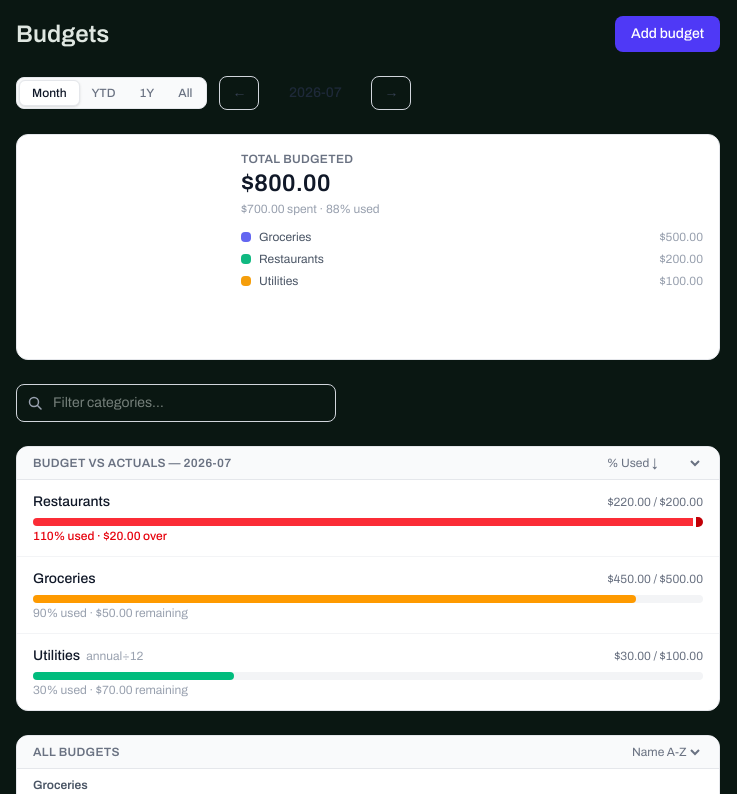
filter bar › Clear button resets filter and restores all rows
Type "groc" into the field with placeholder "Filter categories…". click: {"x": 176, "y": 403}
box: [16,384,336,422]
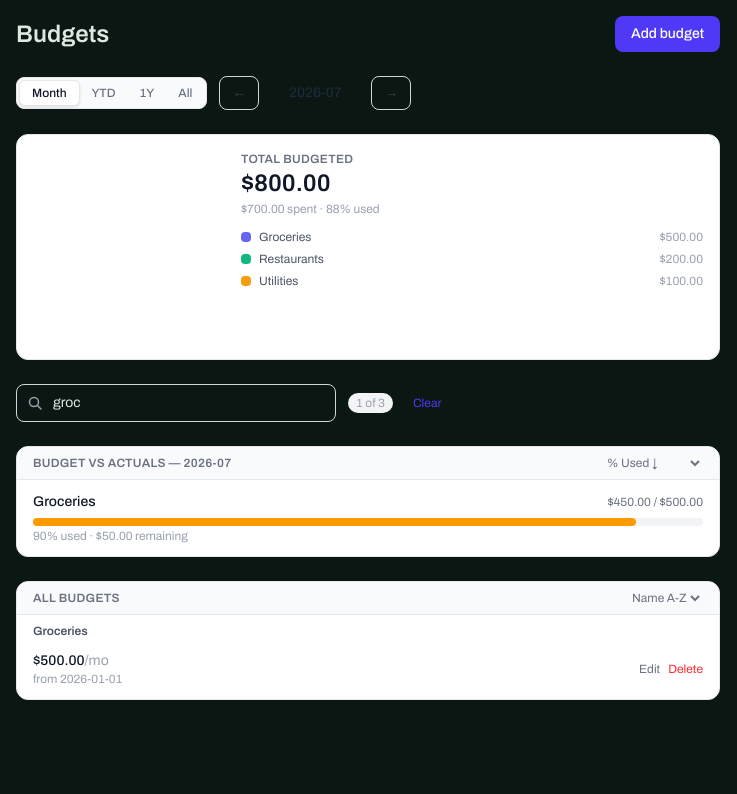
Click the button "Clear". click: {"x": 427, "y": 403}
box: [405,391,449,415]
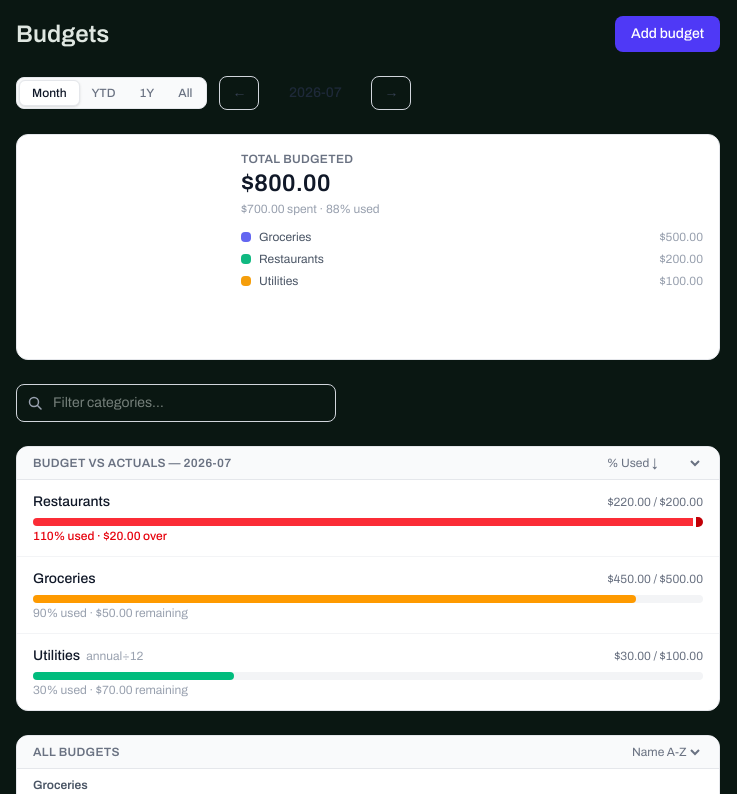
Check: the text "Restaurants" in the row of "$220.00" is shown, box [33,494,110,509]
